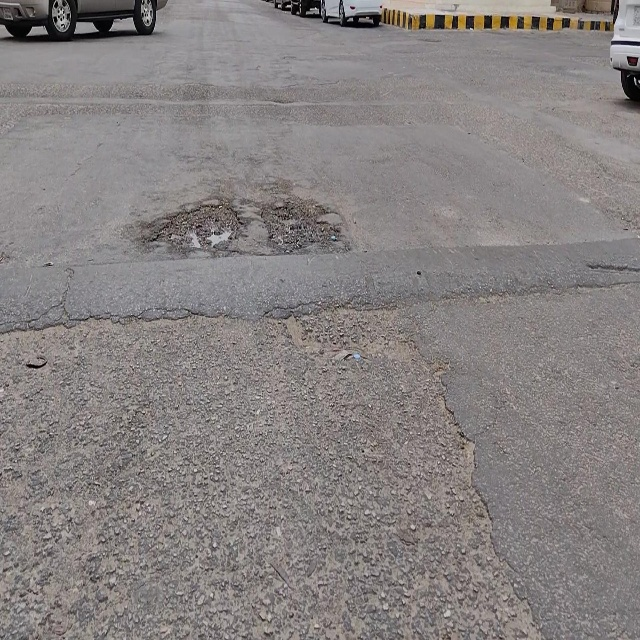pothole: (148, 206, 244, 255), (265, 200, 340, 249)
